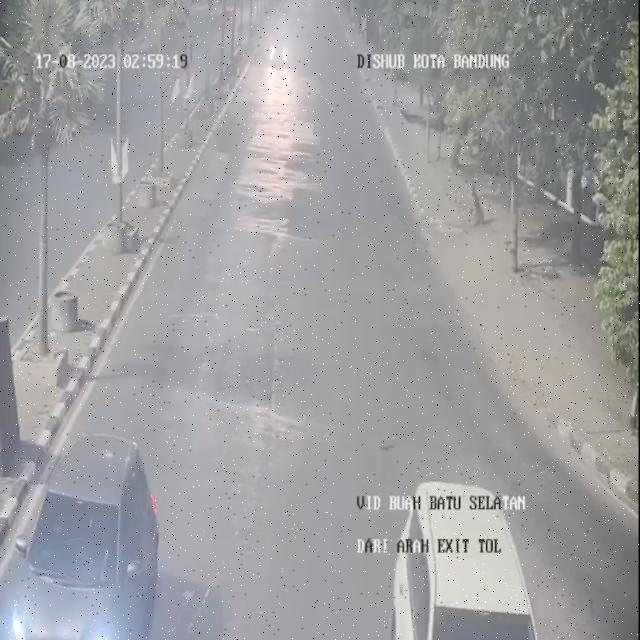cars: (14, 426, 162, 640), (390, 466, 548, 640)
